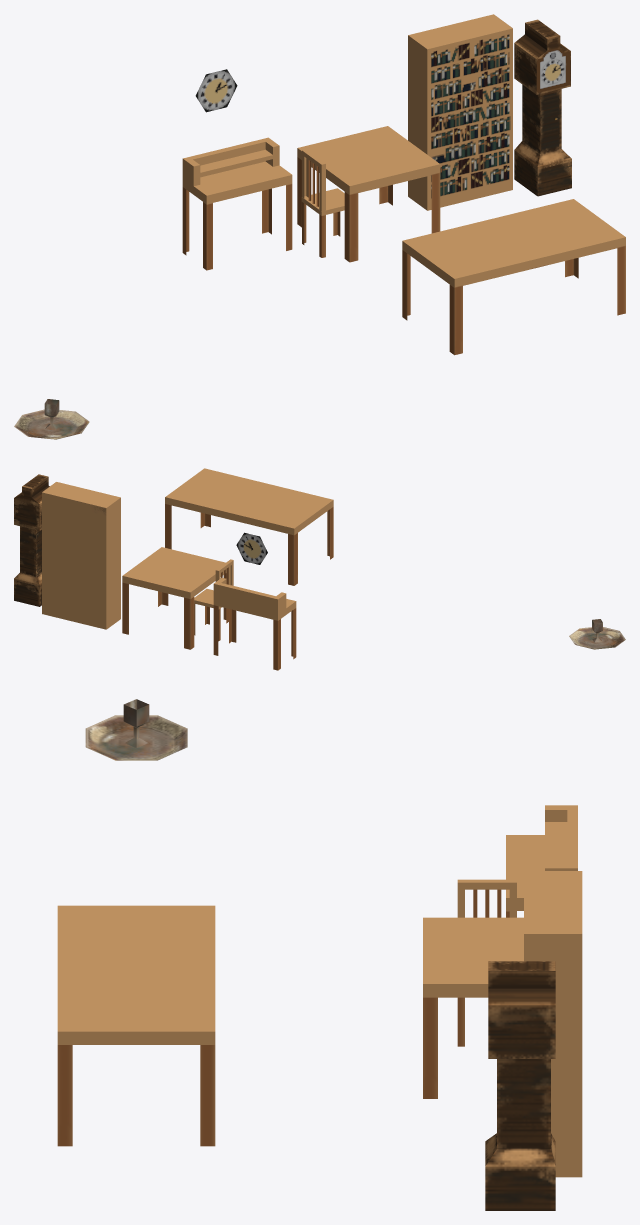
The model's file is PropsHouse_Meshes.fbx.
3 renders of one model, top to bottom at view 1: azimuth 30°, elevation 25°; view 2: azimuth 150°, elevation 25°; view 3: azimuth 270°, elevation 25°, orthographic. The views are drawn at different scales.
Visible parts, largest first — view 1: bookShelf, tableMedium, grandfatherClock, tableSmall, desk, chair, plate, clock; view 2: bookShelf, tableMedium, tableSmall, desk, grandfatherClock, plate, chair, clock; view 3: tableMedium, grandfatherClock, bookShelf, tableSmall, desk, plate, chair, mug.
Boxes of the visible parts, bbox=[...] form: bookShelf: bbox=[408, 14, 512, 210]; tableMedium: bbox=[402, 199, 625, 355]; grandfatherClock: bbox=[514, 19, 571, 196]; tableSmall: bbox=[297, 126, 440, 262]; desk: bbox=[182, 137, 292, 270]; chair: bbox=[301, 149, 344, 257]; plate: bbox=[14, 409, 89, 439]; clock: bbox=[195, 69, 237, 112]; bookShelf: bbox=[42, 482, 120, 629]; tableMedium: bbox=[165, 468, 333, 585]; tableSmall: bbox=[122, 547, 228, 649]; desk: bbox=[213, 577, 296, 670]; grandfatherClock: bbox=[14, 474, 49, 606]; plate: bbox=[569, 627, 625, 649]; chair: bbox=[194, 559, 233, 641]; clock: bbox=[236, 532, 267, 564]; tableMedium: bbox=[57, 905, 215, 1146]; grandfatherClock: bbox=[485, 961, 555, 1210]; bookShelf: bbox=[524, 871, 582, 1177]; tableSmall: bbox=[423, 917, 523, 1098]; desk: bbox=[506, 805, 577, 917]; plate: bbox=[85, 715, 187, 760]; chair: bbox=[457, 879, 516, 1046]; mug: bbox=[123, 699, 149, 747].
Size of the model in its own units: 777 by 192 by 352.
1 material, 1 textured.
